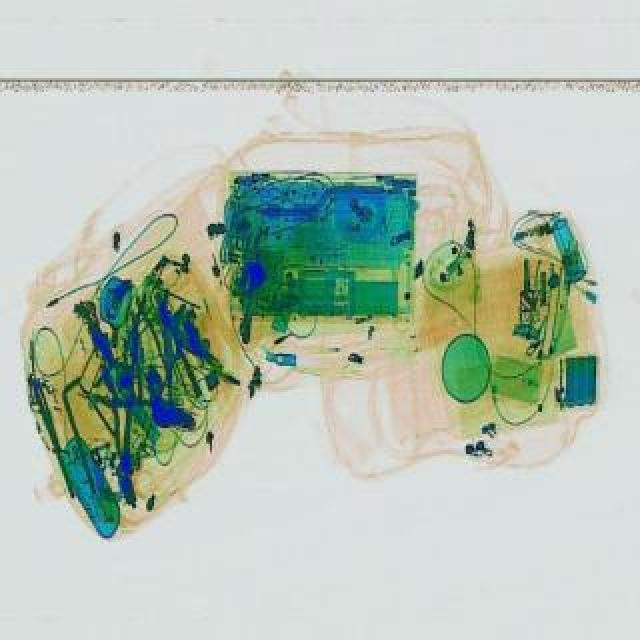wrench: (112, 290, 172, 386)
